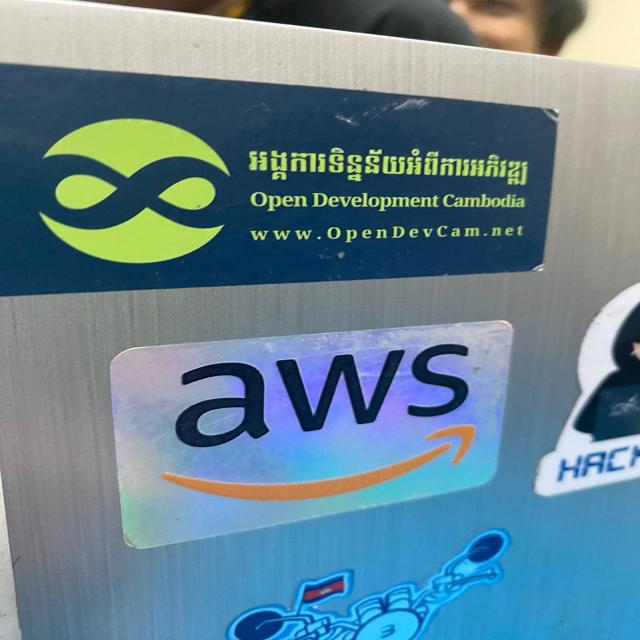Yolov11kh: (238, 137, 540, 192)
